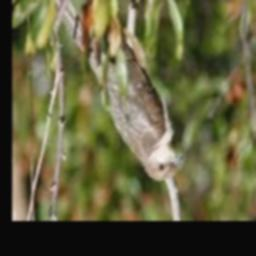Cuckoo: (46, 0, 186, 181)
